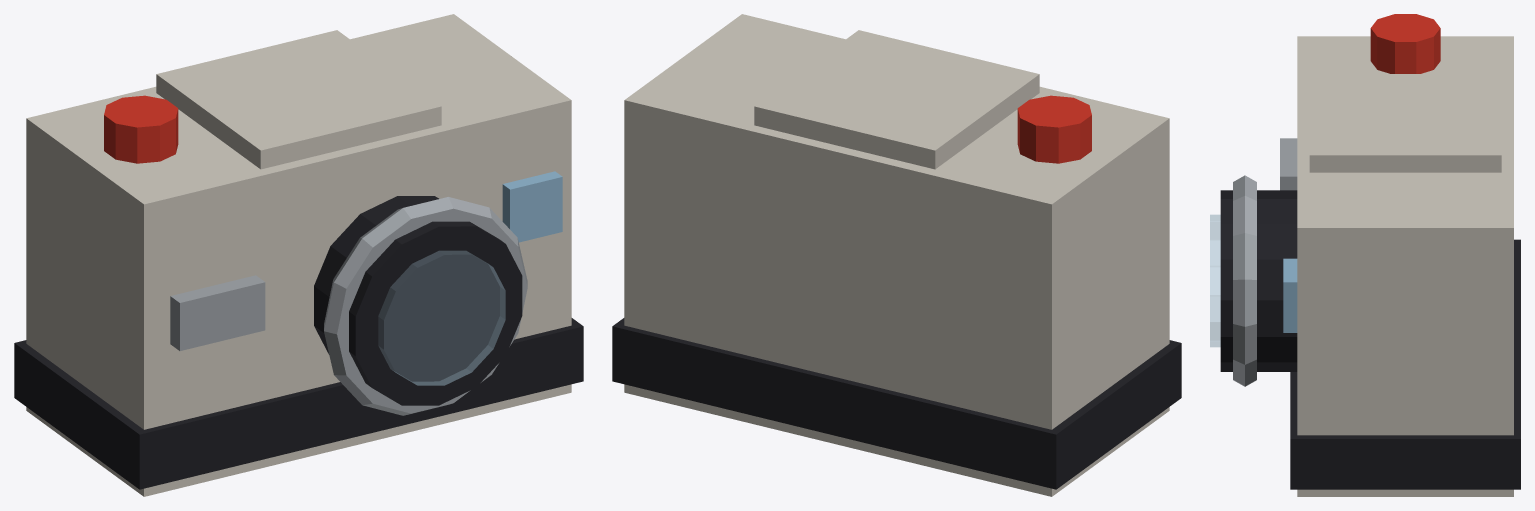
File: camera.glb
3 views of the same model, side by side, from view 1: azimuth 30°, elevation 25°; view 2: azimuth 150°, elevation 25°; view 3: azimuth 270°, elevation 25° (orthographic). The views are drawn at different scales.
Parts seen in each view (by area): view 1: camera; view 2: camera; view 3: camera.
Boxes of the visible parts, left/top/right/bottom form: camera: left=14, top=14, right=583, bottom=496; camera: left=612, top=14, right=1181, bottom=496; camera: left=1210, top=14, right=1520, bottom=496.
Bounding box in the file's own units: 0.135 × 0.0955 × 0.089.
